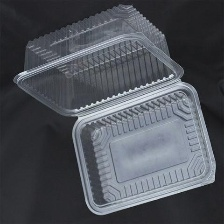plastic_box: (8, 0, 220, 219)
